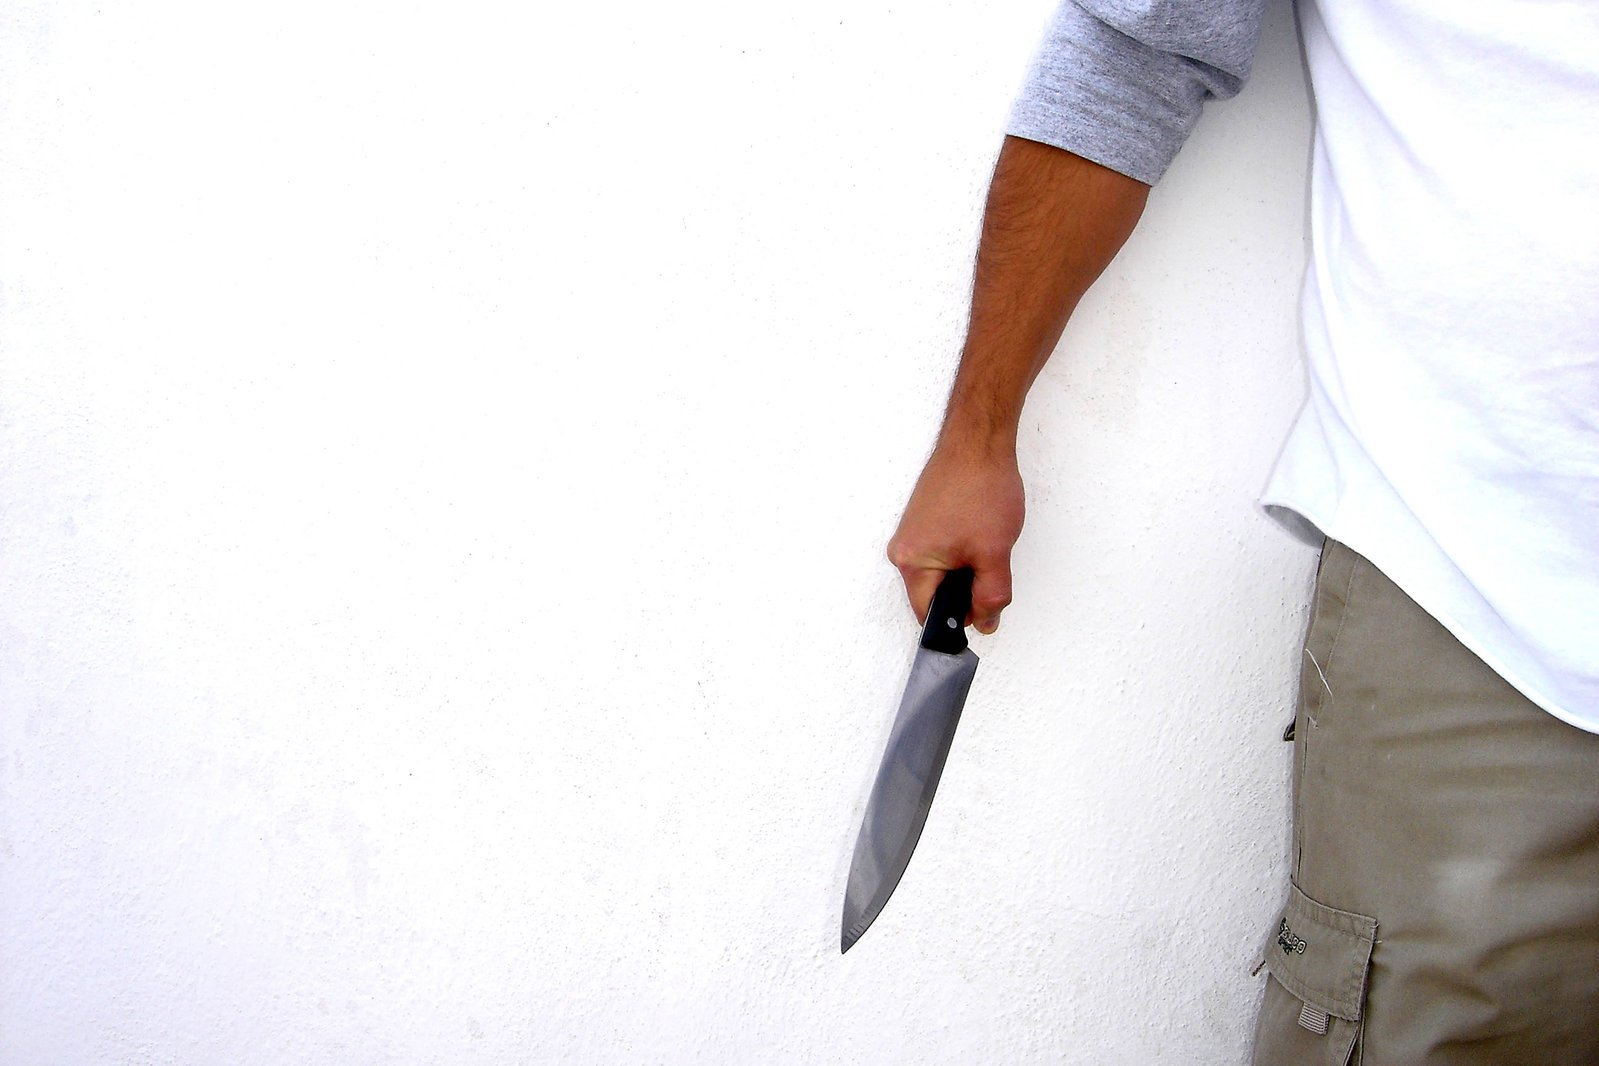knife: (835, 568, 987, 955)
